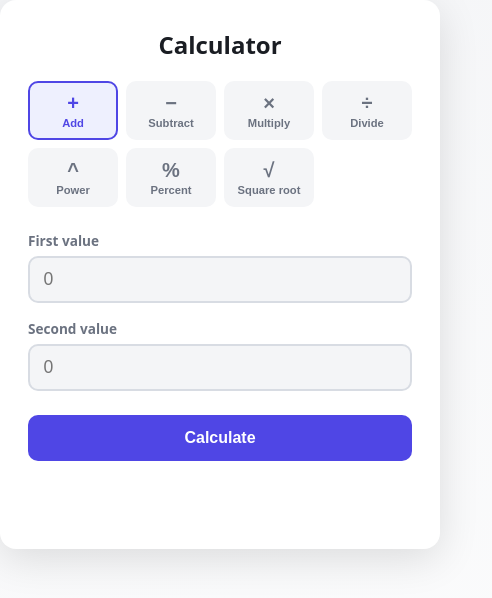
Test: Calculator › hides the second operand for unary operations like square root
Click the button "√ Square root": [269, 178] box top-left (224, 148), bottom-right (314, 207)
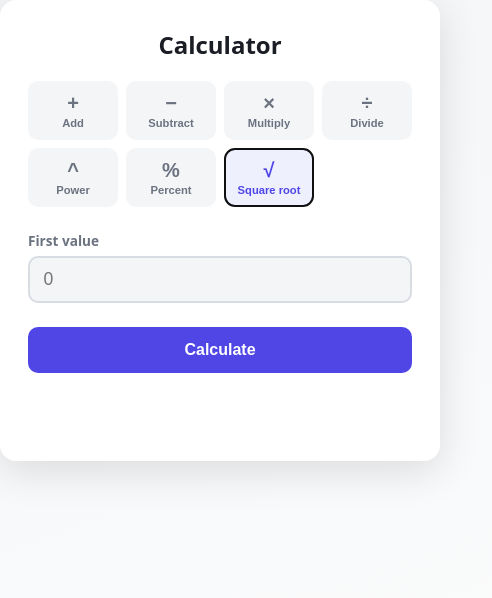
Expected: the number field labelled "First value" is shown, top-left (28, 256), bottom-right (412, 303)
Expected: the label labelled "Second value" is gone
